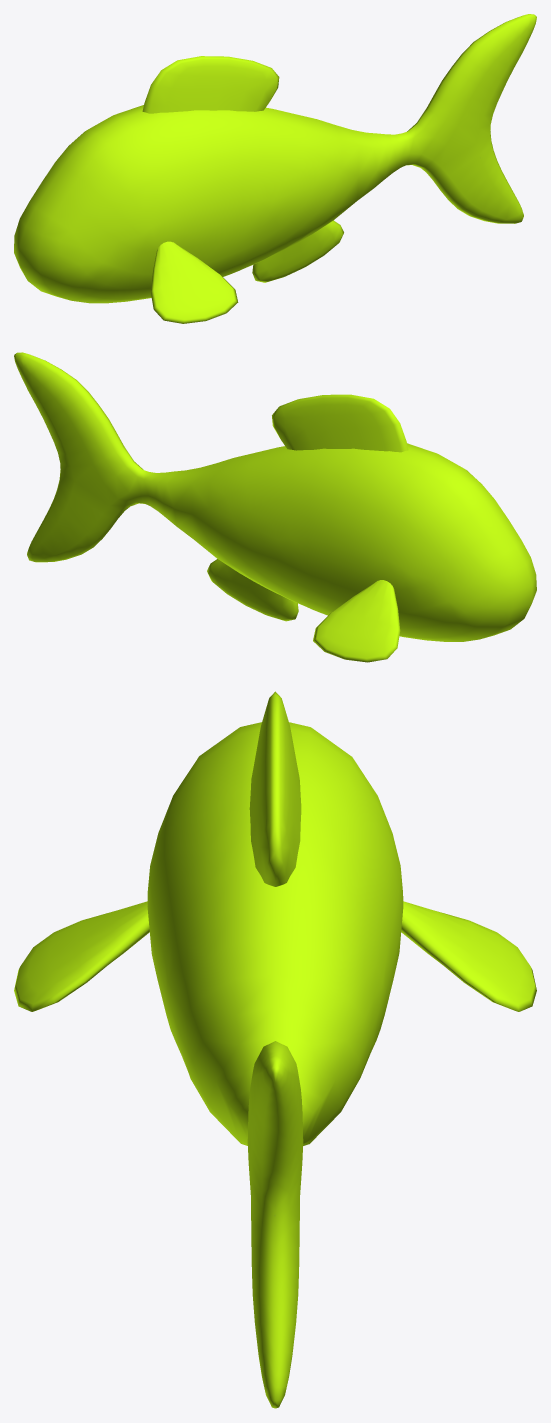
The model's file is Fish 3D Model.glb.
The picture shows the model from 3 angles, top to bottom: view 1: azimuth 30°, elevation 25°; view 2: azimuth 150°, elevation 25°; view 3: azimuth 270°, elevation 25°; orthographic projection. The views are drawn at different scales.
Visible parts, largest first — view 1: mesh_id27; view 2: mesh_id27; view 3: mesh_id27.
Part boxes in pixels (x1=…): mesh_id27: x1=14, y1=14, x2=536, y2=323; mesh_id27: x1=14, y1=352, x2=536, y2=662; mesh_id27: x1=14, y1=691, x2=536, y2=1408.
Bounding box in the file's own units: 0.352 × 0.1599 × 0.1783.
Materials: 1 (1 with a texture image).
